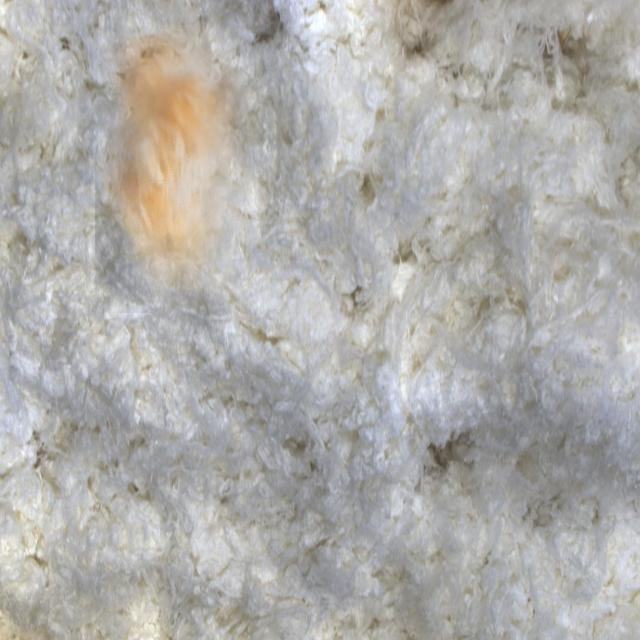dust: (95, 25, 253, 313)
